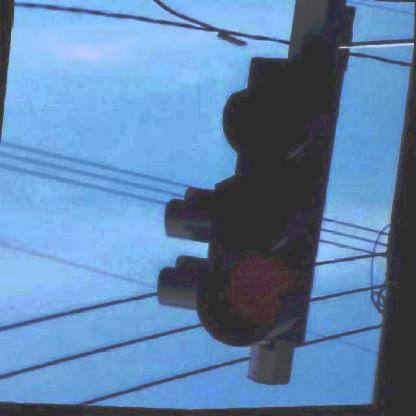Traffic Light -Red-: (192, 58, 342, 354)
